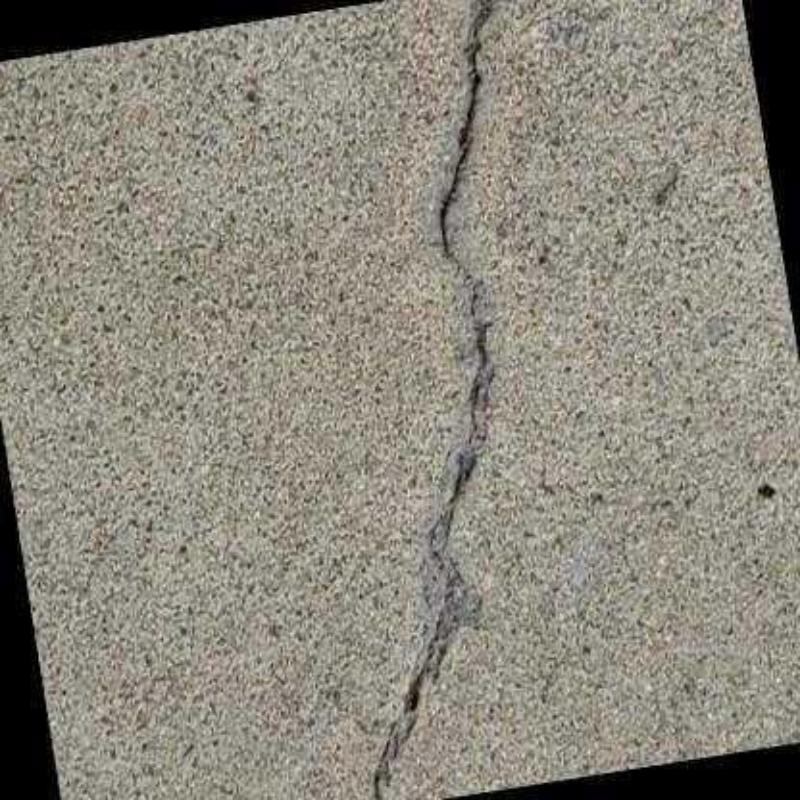crack: (364, 0, 489, 800)
